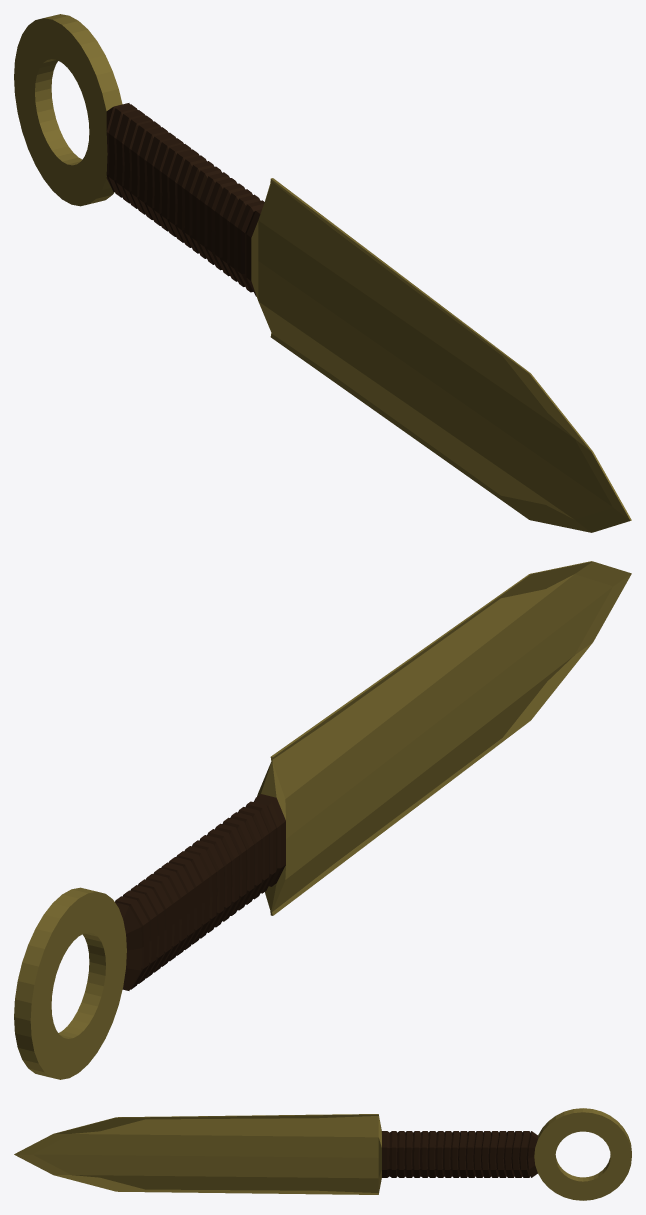
The model's file is Throwing_Knife.fbx.
3 views of the same model, one above another, from view 1: azimuth 30°, elevation 25°; view 2: azimuth 150°, elevation 25°; view 3: azimuth 270°, elevation 25° (orthographic). The views are drawn at different scales.
Parts seen in each view (by area): view 1: Throwing_Knife; view 2: Throwing_Knife; view 3: Throwing_Knife.
Part boxes in pixels (x1=…): Throwing_Knife: x1=14, y1=14, x2=631, y2=532; Throwing_Knife: x1=14, y1=561, x2=631, y2=1079; Throwing_Knife: x1=14, y1=1108, x2=631, y2=1200.
Size of the model in its own units: 41.53 by 200 by 1265.
